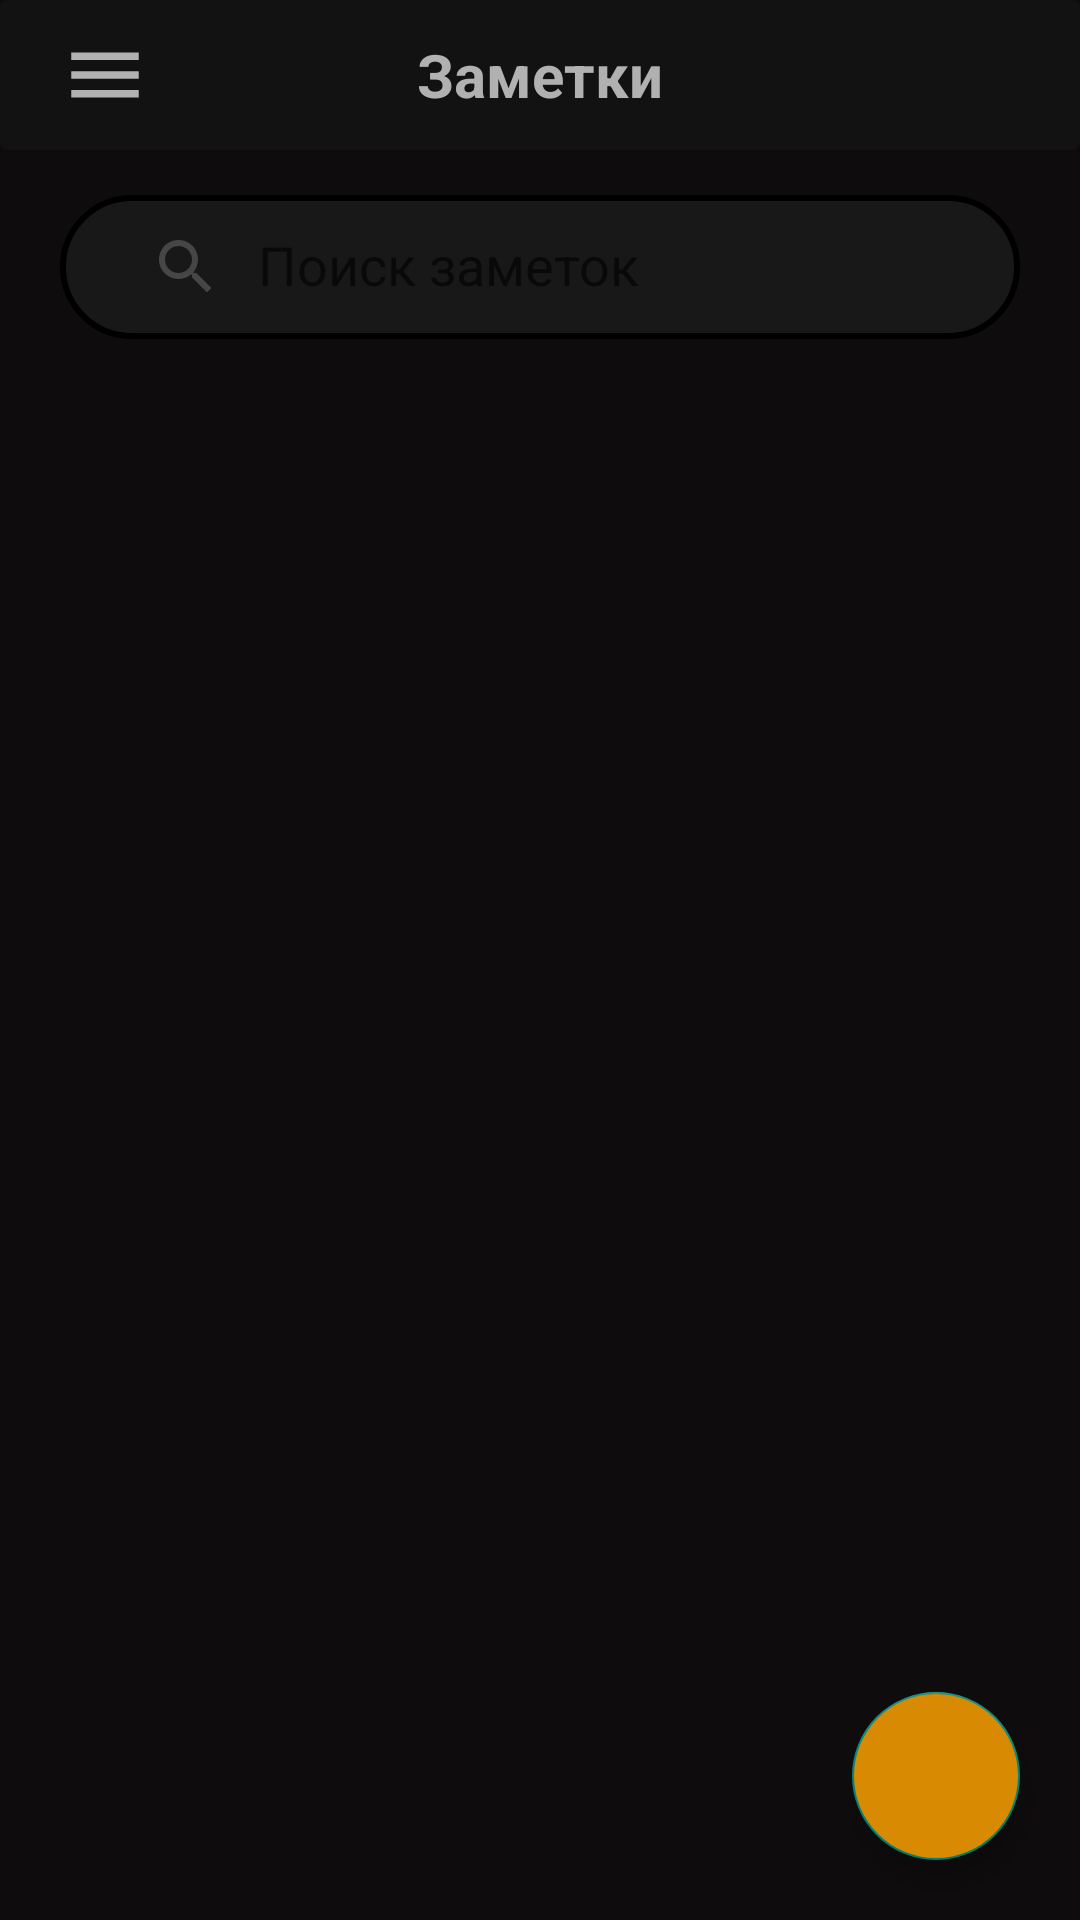

Where to tap for icons on this 1080px×1920px app screen, as point (x, y):
menu: point (105, 75)
